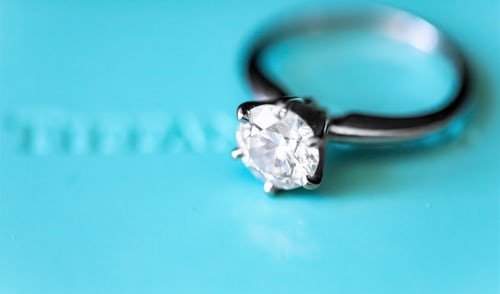ring: (215, 59, 353, 201)
